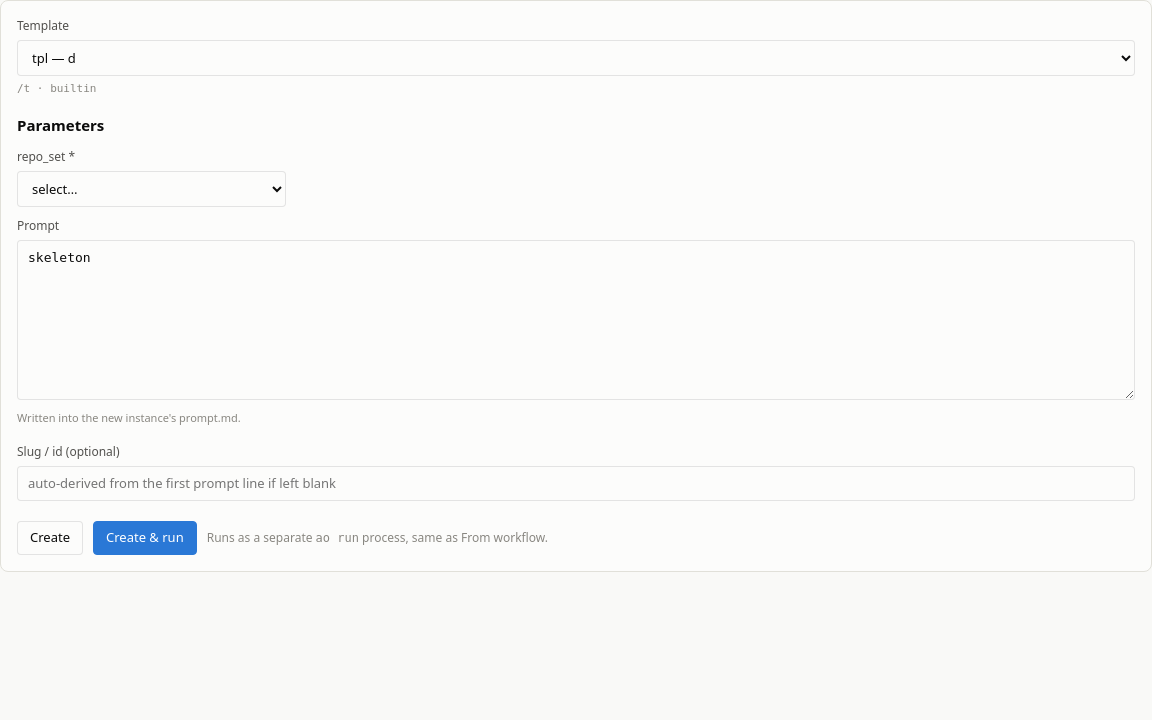
Scenario: TemplateLaunch 'Create & run' flow › started: Open run navigates on click only; Start another resets slug/prompt
Select "fin-plan" in the dropdown labelled "repo_set *". click: (152, 189)
box: [17,171,286,207]
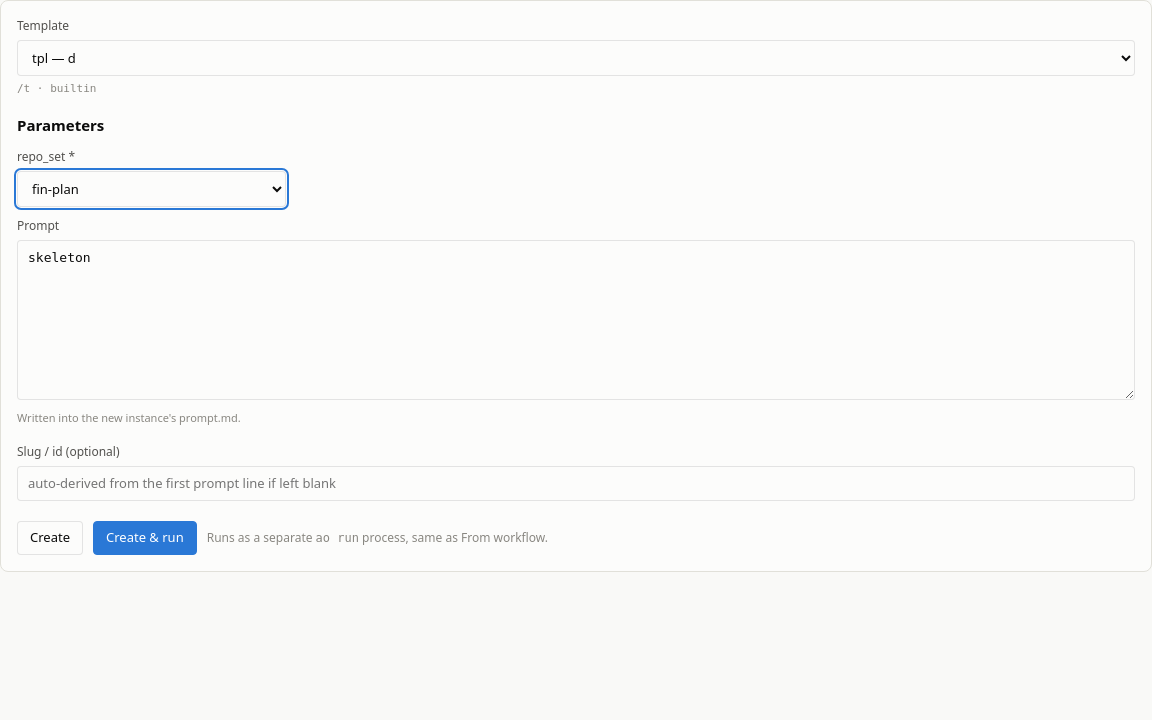
Click the button "Create & run". click: (145, 538)
box: [93,521,197,554]
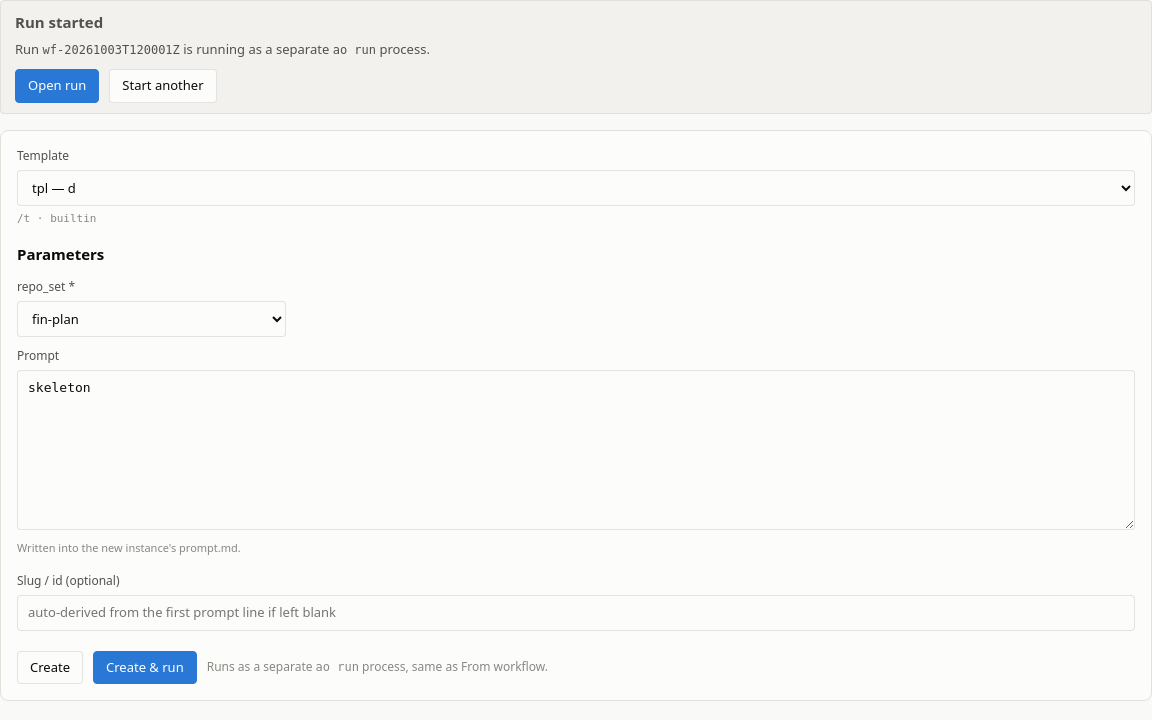
Expected: the heading "Run started" is shown, [15,12,103,32]
Click the button "Start another". click: (163, 86)
box: [109,69,216,102]
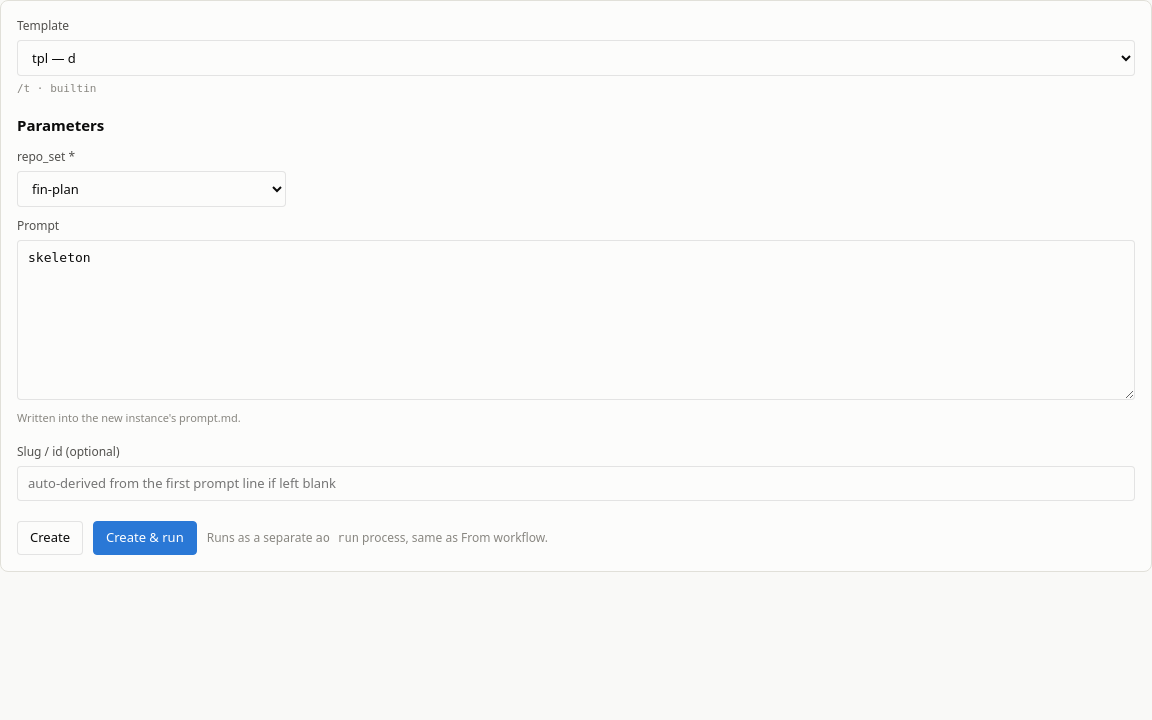
Expected: the text box labelled "Prompt" holds "skeleton", [17,240,1135,400]
Expected: the heading "Run started" is gone
